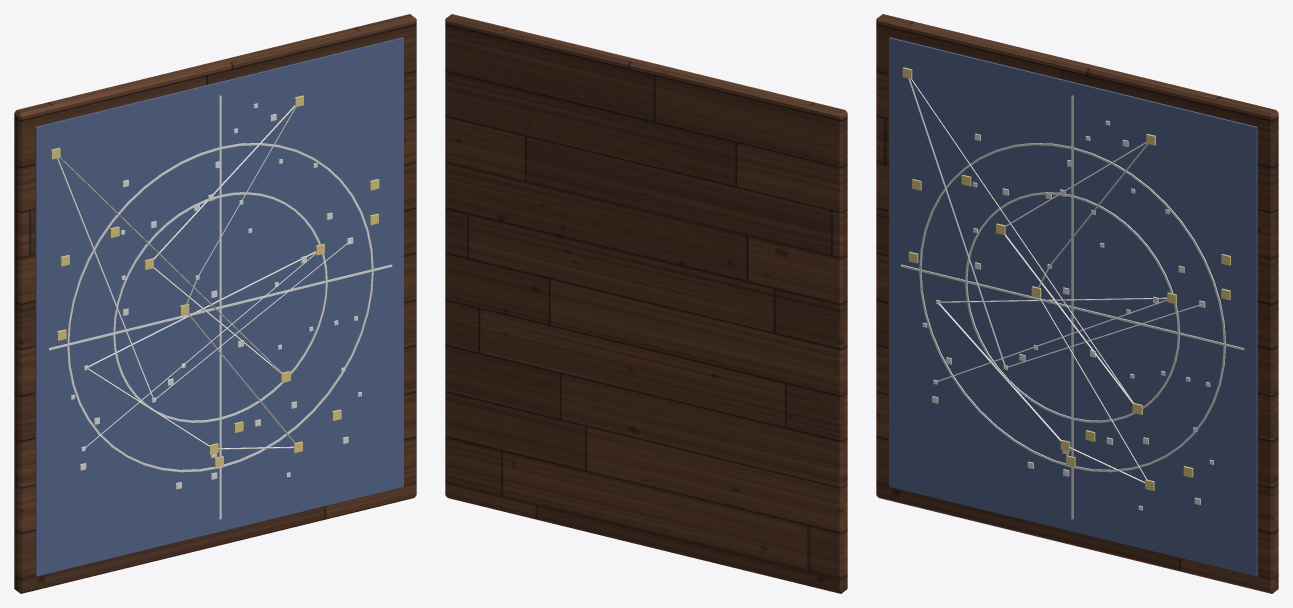
File: star_panel.glb
3 renders of one model, left to right at view 1: azimuth 30°, elevation 25°; view 2: azimuth 150°, elevation 25°; view 3: azimuth 330°, elevation 25°, orthographic.
Parts seen in each view (by area): view 1: star_panel_chart, star_panel_dkwood, star_panel_chalk, star_panel_gold; view 2: star_panel_dkwood; view 3: star_panel_chart, star_panel_dkwood, star_panel_chalk, star_panel_gold.
Part boxes in pixels (<box>): star_panel_chart: <box>35,37,403,576</box>; star_panel_dkwood: <box>14,14,416,593</box>; star_panel_chalk: <box>48,95,392,519</box>; star_panel_gold: <box>51,95,379,467</box>; star_panel_dkwood: <box>445,14,847,593</box>; star_panel_chart: <box>889,37,1257,576</box>; star_panel_dkwood: <box>876,14,1278,593</box>; star_panel_chalk: <box>900,78,1244,519</box>; star_panel_gold: <box>902,67,1230,490</box>.
Bounding box in the file's own units: 1.3 × 1.5 × 0.052.
4 materials, 1 textured.
